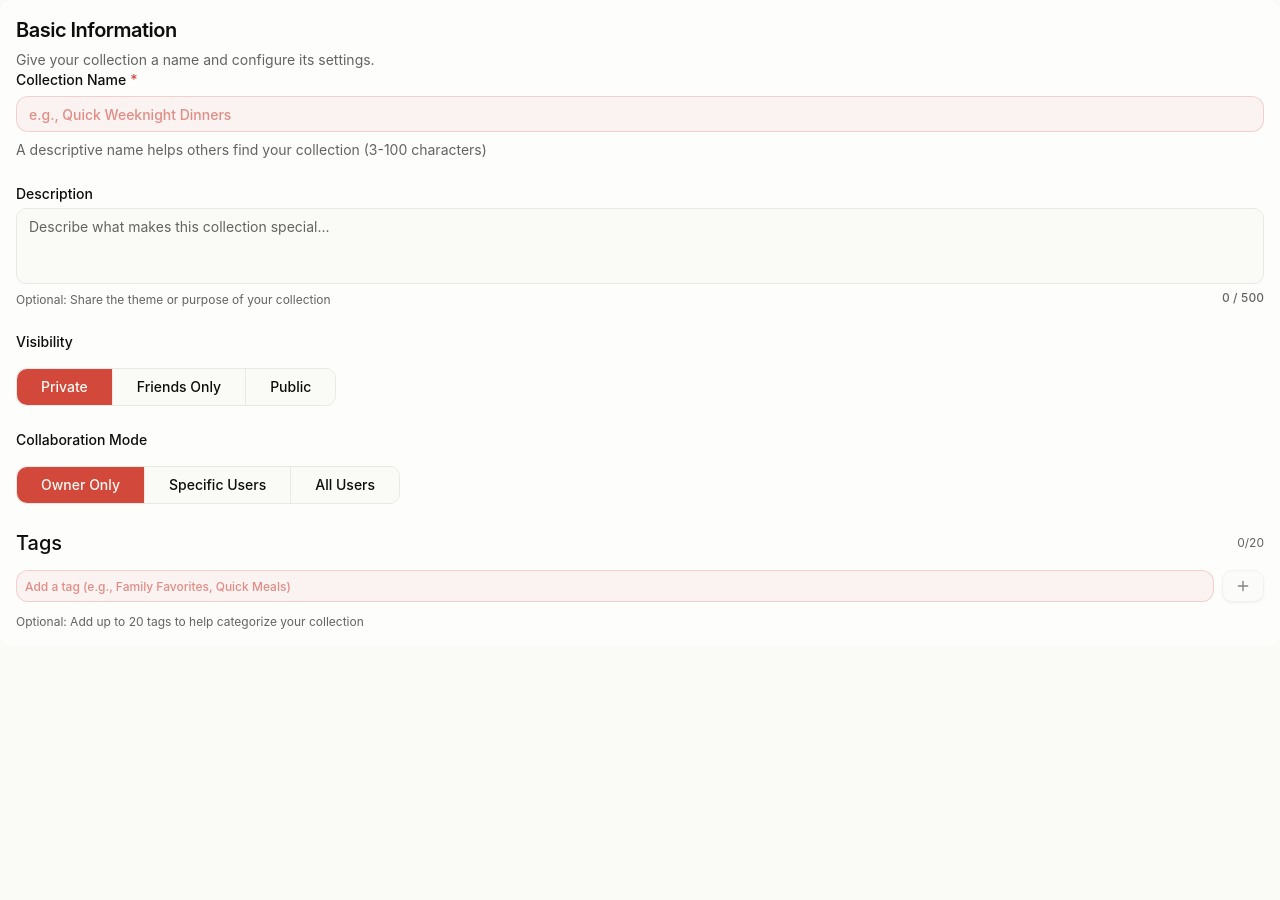
BasicInfoSection › Tags TagInput › should allow adding tags
The width and height of the screenshot is (1280, 900).
Type "vegetarian" into the field with placeholder "Add a tag (e.g., Family Favorites, Quick Meals)" at (615, 586), box [16,570,1214,602]
Then press Enter
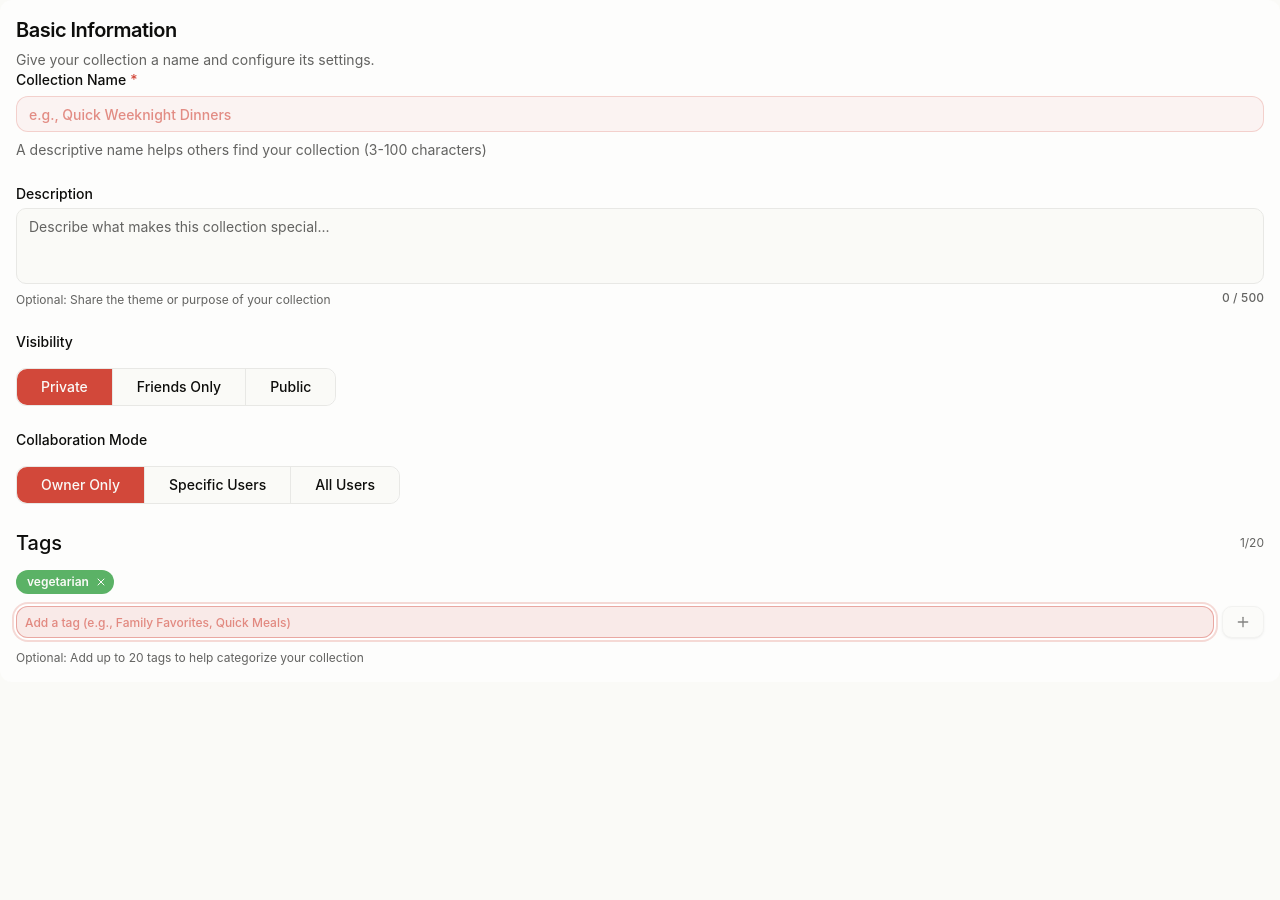
Expected: the text "vegetarian" is shown, [16,570,114,594]
